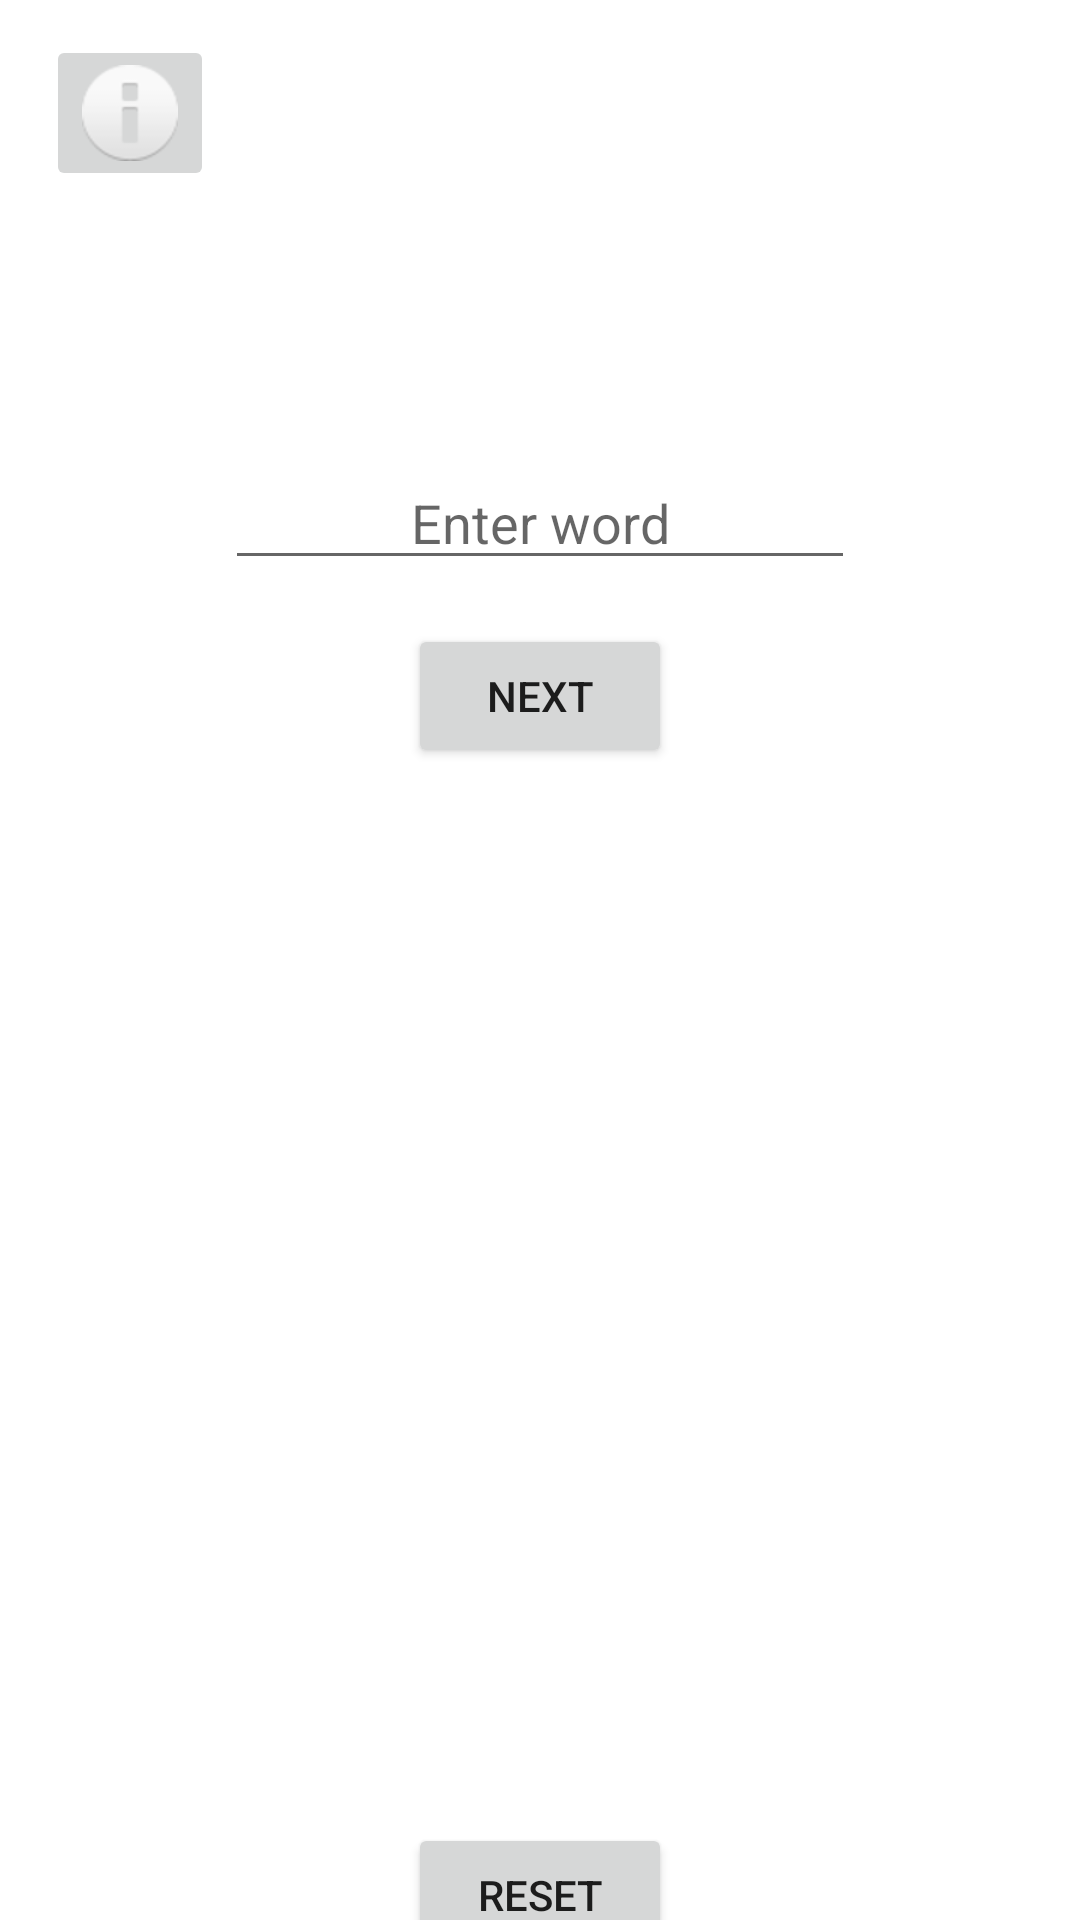

Screen size 1080*1920. Icon name, then its box in pixels as {"x1": x1, "y1": y1, "x2": x2, "y2": y2}:
info: {"x1": 58, "y1": 53, "x2": 202, "y2": 173}
